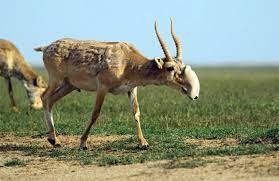saiga: (34, 16, 202, 157)
